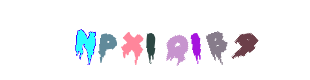4: (173, 0, 253, 80)
B: (156, 0, 236, 80)
I: (114, 0, 194, 80), (132, 0, 212, 80)
N: (45, 0, 125, 80)
P: (45, 0, 125, 80)
Q: (131, 0, 211, 80)
X: (92, 0, 172, 80)
